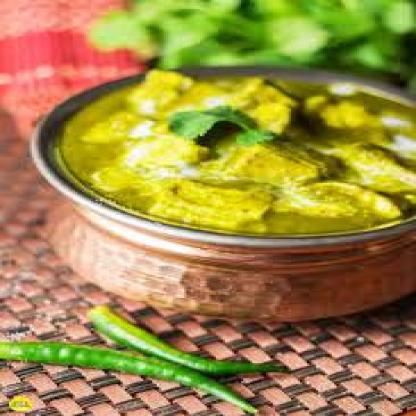palak_paneer: (63, 71, 416, 236)
